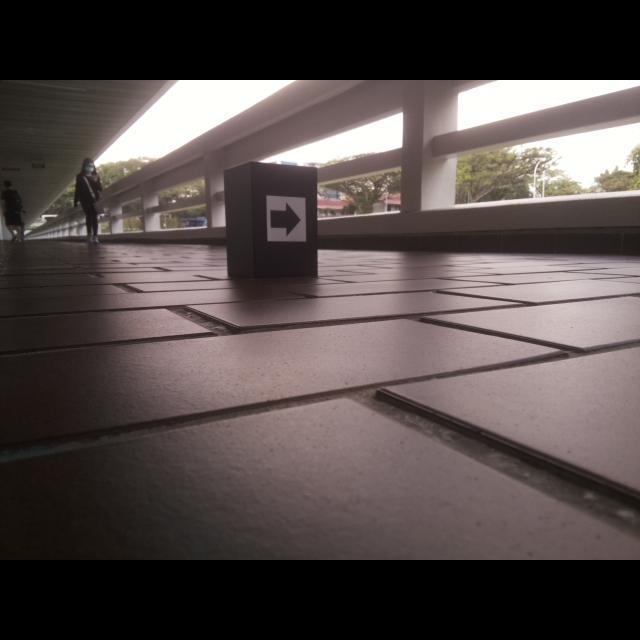RIGHT: (270, 201, 302, 238)
